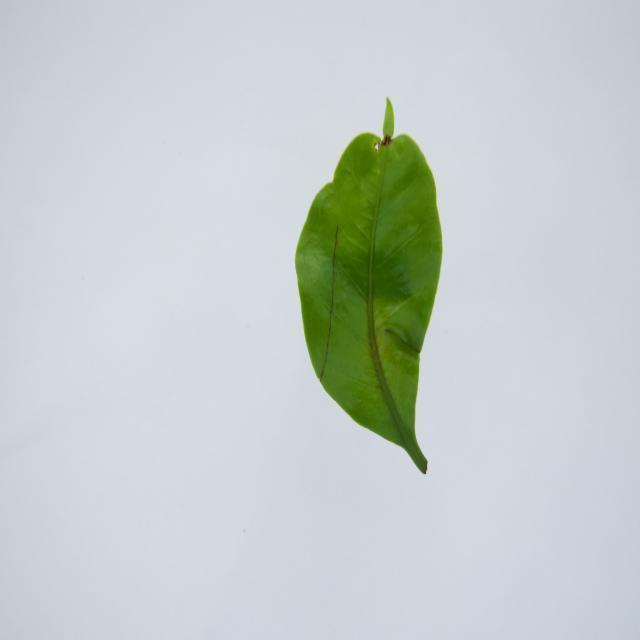DeficienciaNutricional-Boro: (295, 98, 442, 473)
